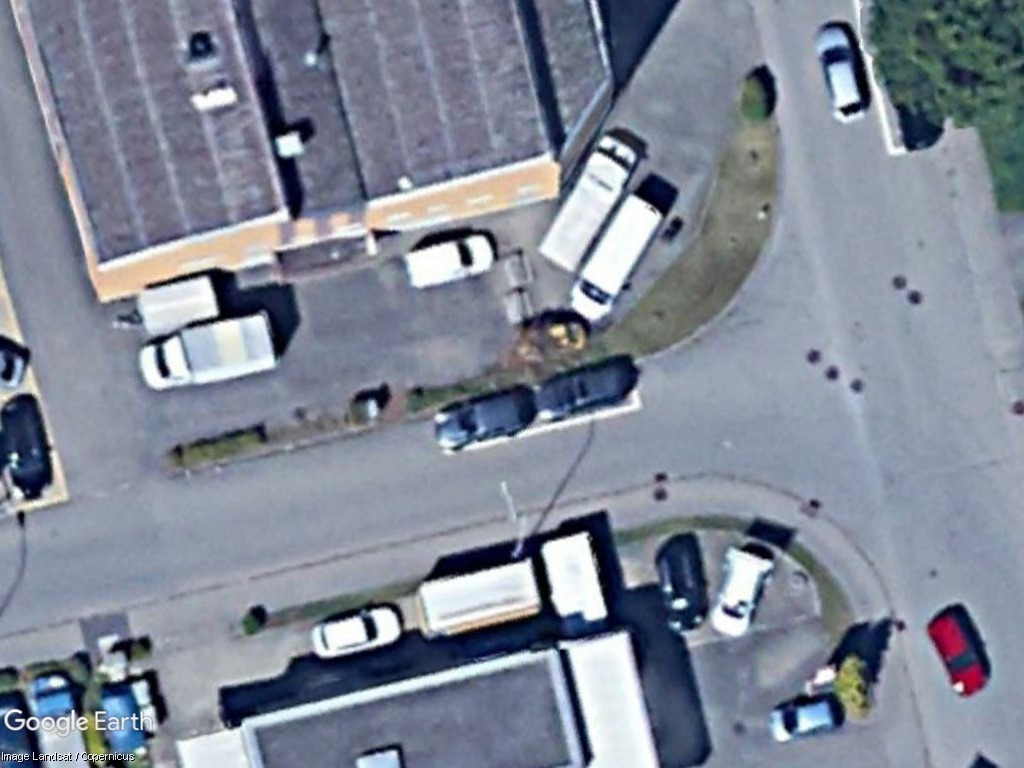car: (527, 356, 638, 425), (431, 384, 533, 458), (923, 606, 994, 702), (309, 599, 409, 663), (813, 23, 874, 126), (764, 689, 843, 745)
truck: (531, 129, 640, 281), (134, 308, 282, 392)
van: (568, 189, 669, 324), (401, 227, 495, 291)
